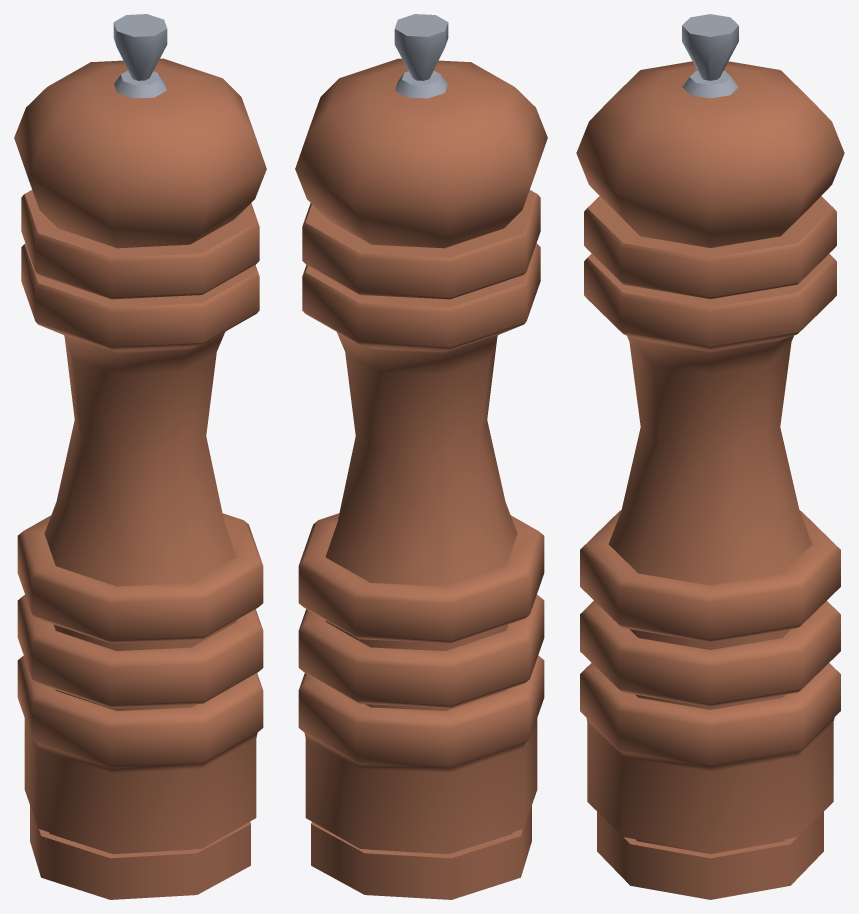
Rendered from Pepper Grinder.glb.
3 renders of one model, left to right at view 1: azimuth 30°, elevation 25°; view 2: azimuth 150°, elevation 25°; view 3: azimuth 270°, elevation 25°, orthographic.
Parts seen in each view (by area): view 1: cutensil_grind_pepper_grinder_Cylinder.007; view 2: cutensil_grind_pepper_grinder_Cylinder.007; view 3: cutensil_grind_pepper_grinder_Cylinder.007.
Part boxes in pixels (x1,y1,x2,y2): cutensil_grind_pepper_grinder_Cylinder.007: (14,14,266,899); cutensil_grind_pepper_grinder_Cylinder.007: (295,14,547,899); cutensil_grind_pepper_grinder_Cylinder.007: (576,14,844,899).
Size of the model in its own units: 1.98 by 7.03 by 2.07.
1 material, 1 textured.
